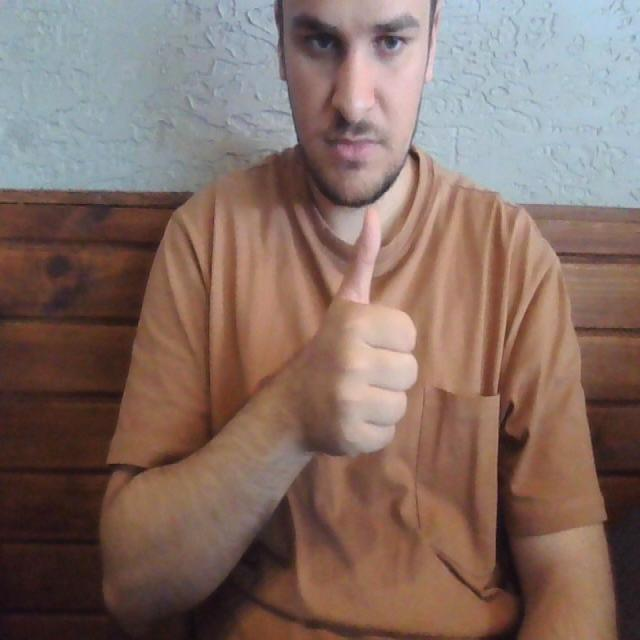Tamam: (294, 193, 425, 465)
